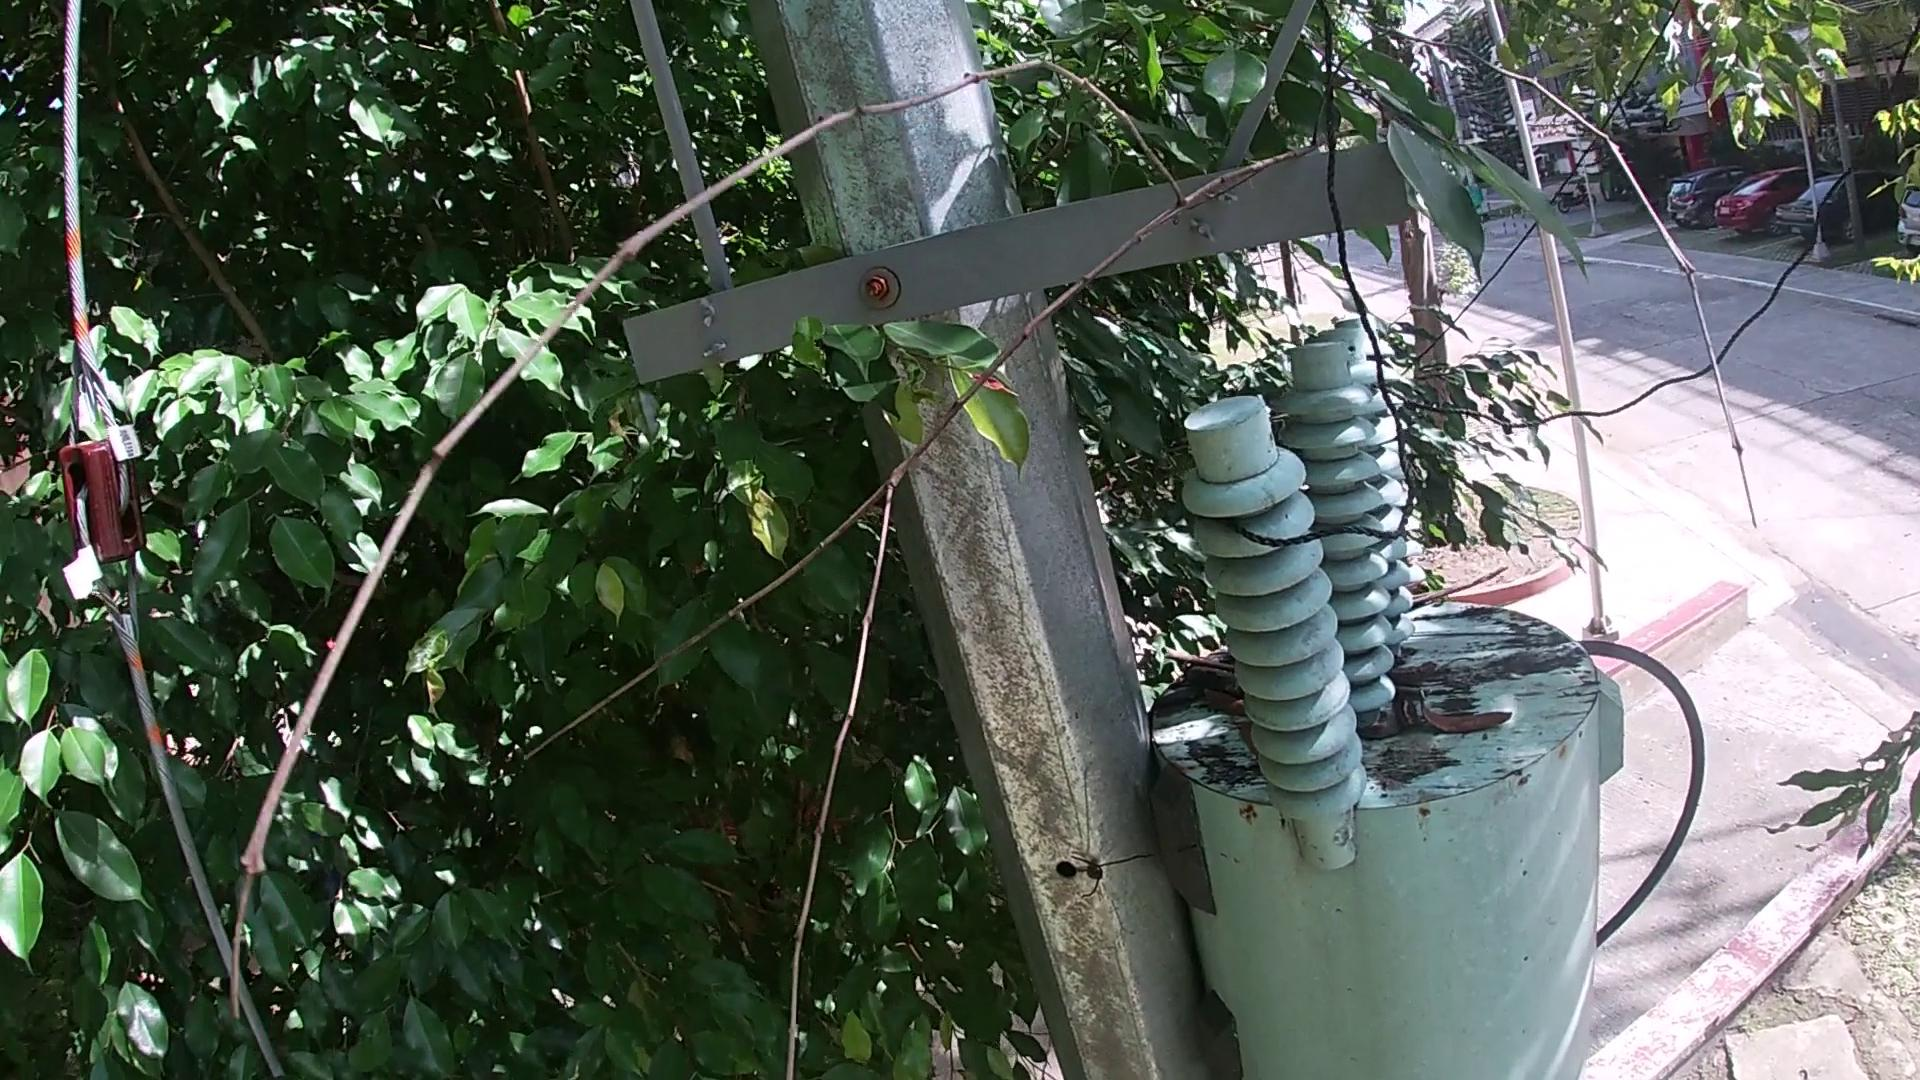leaf: (1197, 700, 1247, 725), (1396, 698, 1418, 749)
mahogany fruit: (1422, 698, 1524, 738)
tree branch: (185, 36, 1797, 1044), (1403, 568, 1503, 616), (1403, 622, 1549, 644), (1182, 662, 1247, 691), (1162, 649, 1233, 665)
